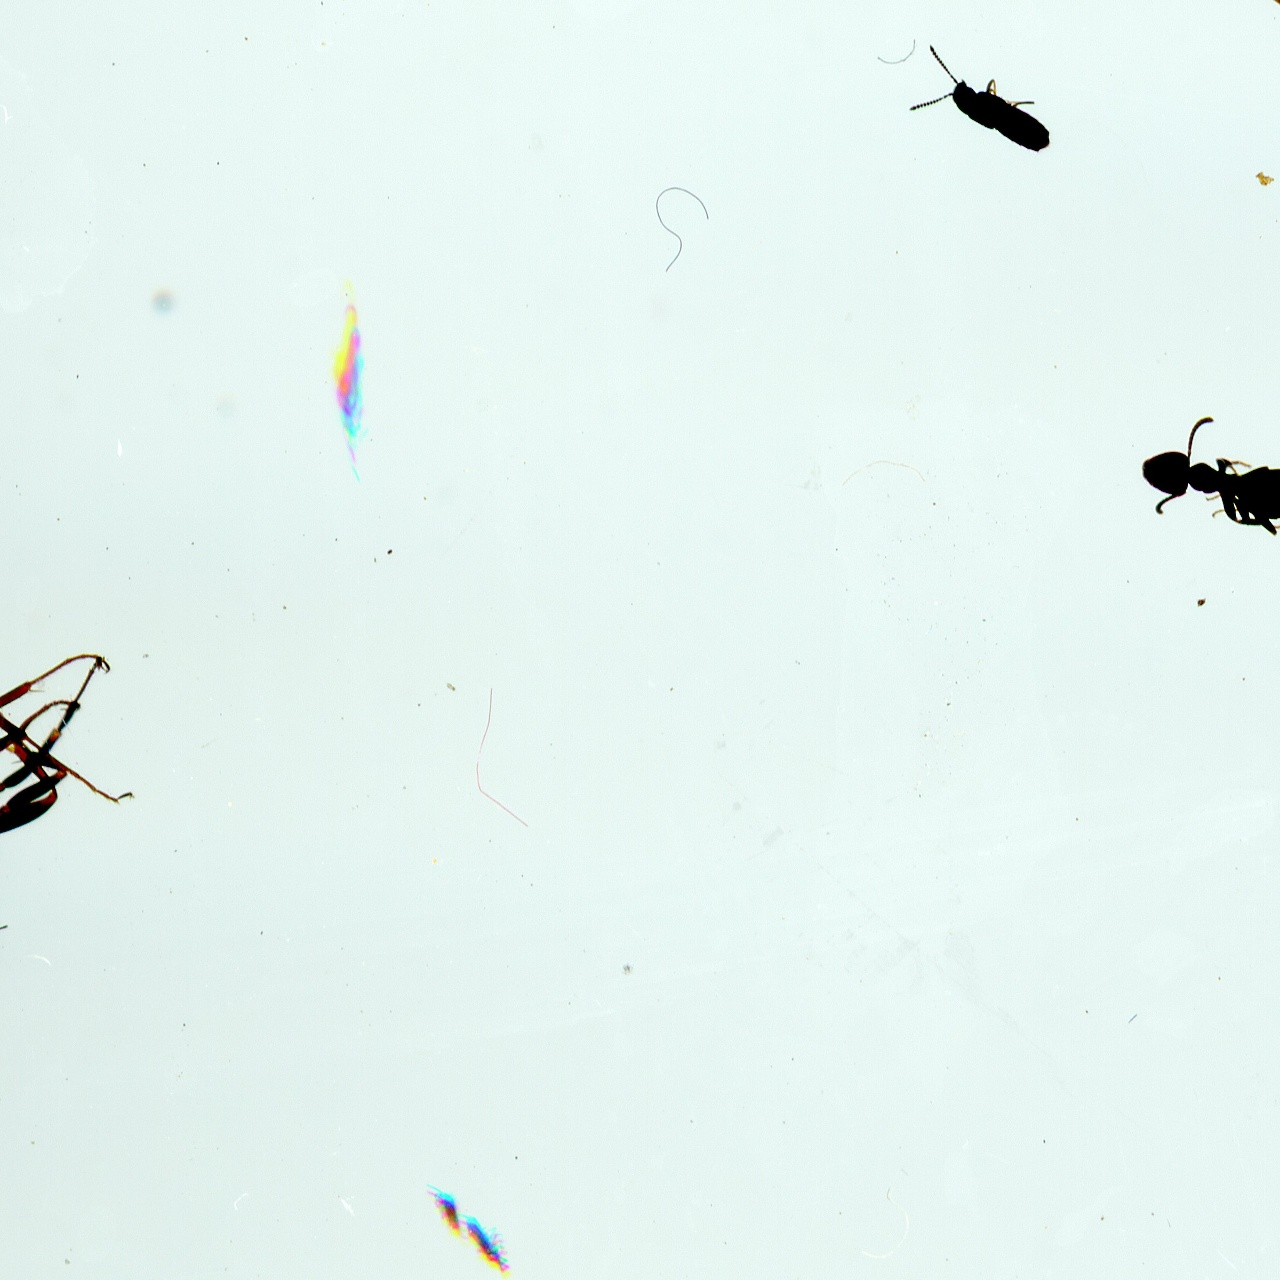arthropod: (0, 642, 154, 1117), (872, 1, 1078, 212), (1133, 413, 1280, 540), (322, 284, 381, 479), (454, 1198, 525, 1280), (424, 1180, 461, 1238)
